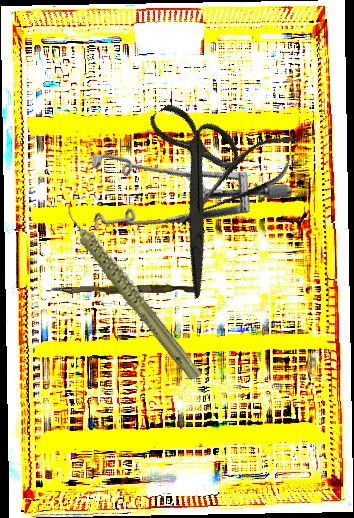Handpiece: (62, 182, 204, 400)
Iris Scissors: (93, 85, 296, 301)
Micro Scissor: (165, 121, 313, 241)
Pusher: (45, 282, 201, 298)
Speculum: (59, 86, 295, 308)
